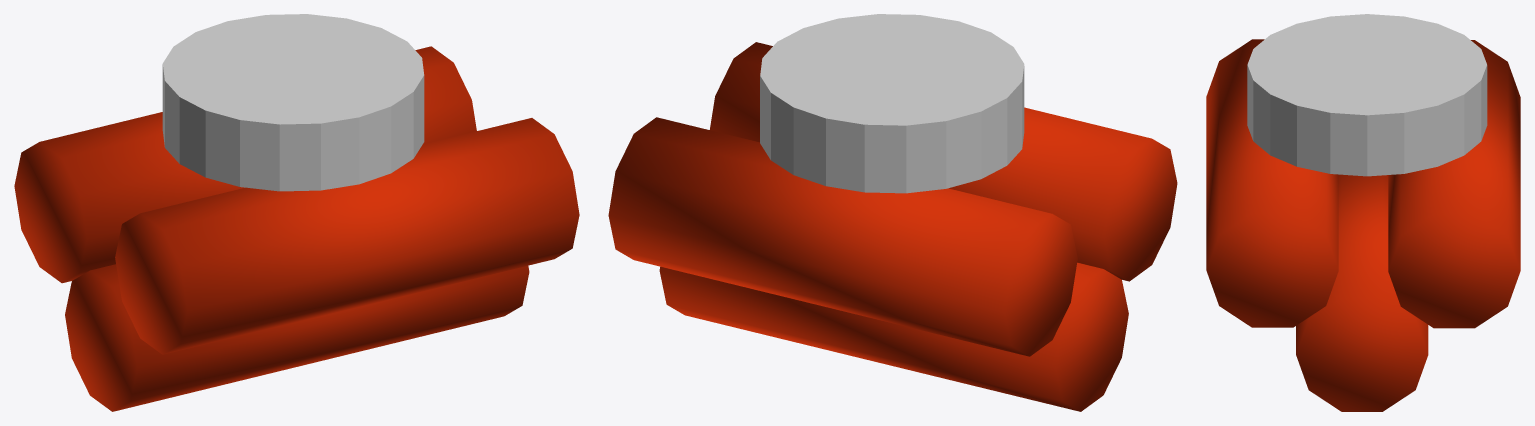
File: bomb.dae
3 views of the same model, side by side, from view 1: azimuth 30°, elevation 25°; view 2: azimuth 150°, elevation 25°; view 3: azimuth 270°, elevation 25° (orthographic). The views are drawn at different scales.
Visible parts, largest first — view 1: Cylinder_001, clock, Cylinder_002, Cylinder; view 2: Cylinder, clock, Cylinder_002, Cylinder_001; view 3: clock, Cylinder_001, Cylinder, Cylinder_002.
Boxes of the visible parts, bbox=[...] form: Cylinder_001: bbox=[115, 118, 579, 354]; clock: bbox=[162, 14, 424, 191]; Cylinder_002: bbox=[65, 264, 529, 411]; Cylinder: bbox=[14, 46, 476, 283]; Cylinder: bbox=[608, 117, 1077, 356]; clock: bbox=[760, 14, 1024, 193]; Cylinder_002: bbox=[659, 262, 1128, 411]; Cylinder_001: bbox=[710, 42, 1177, 281]; clock: bbox=[1247, 14, 1487, 176]; Cylinder_001: bbox=[1206, 39, 1338, 327]; Cylinder: bbox=[1388, 40, 1520, 328]; Cylinder_002: bbox=[1296, 174, 1428, 411].
Size of the model in its own units: 1.43 by 1.08 by 0.9878.
